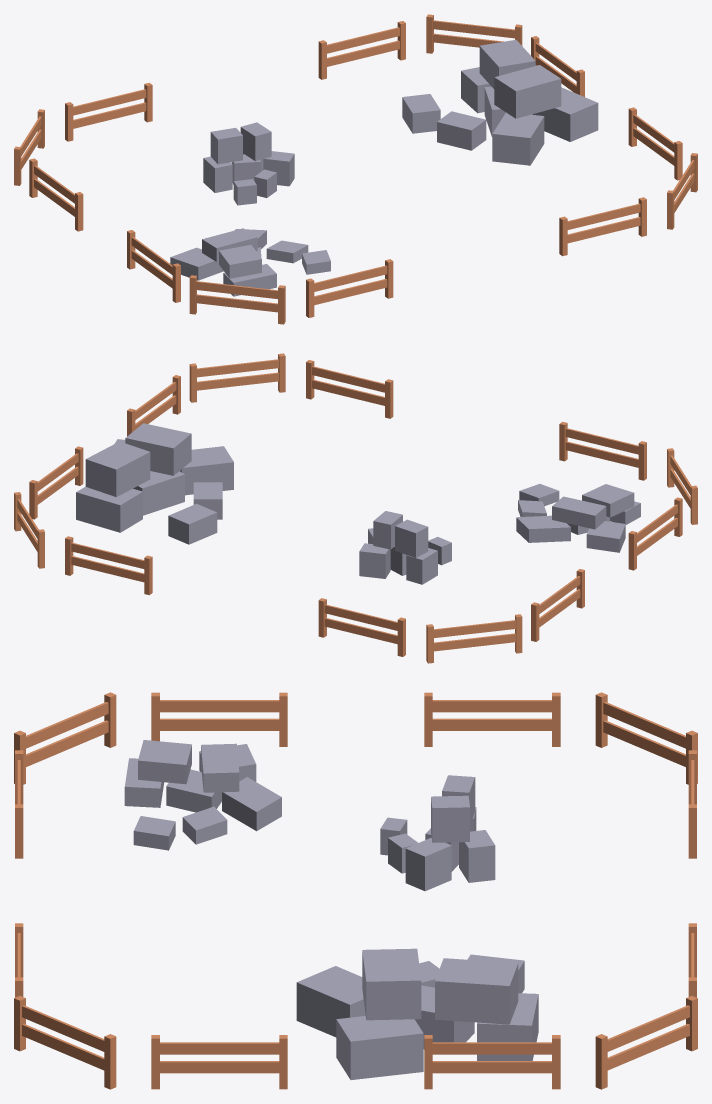
The model's file is Caserne_plan.fbx.
3 renders of one model, top to bottom at view 1: azimuth 30°, elevation 25°; view 2: azimuth 150°, elevation 25°; view 3: azimuth 270°, elevation 25°, orthographic. The views are drawn at different scales.
Visible parts, largest first — view 1: debris_bricks_17, debris_bricks_12, debris_bricks_14, fence_wood_11, fence_wood_2, fence_wood_5, fence_wood_1, fence_wood_6, fence_wood_8, fence_wood_3, fence_wood_4, fence_wood_7 (+3 smaller); view 2: debris_bricks_17, debris_bricks_12, debris_bricks_14, fence_wood_10, fence_wood_9, fence_wood_6, fence_wood_1, fence_wood_5, fence_wood_2, fence_wood_7, fence_wood_0, fence_wood_3 (+3 smaller); view 3: debris_bricks_17, debris_bricks_12, debris_bricks_14, fence_wood_0, fence_wood_3, fence_wood_4, fence_wood_7, fence_wood_8, fence_wood_10, fence_wood_9, fence_wood_11, fence_wood_2 (+3 smaller).
Part boxes in pixels (x1,y1,x2,y2): debris_bricks_17: (402,40,598,165); debris_bricks_12: (170,228,330,296); debris_bricks_14: (203,122,294,205); fence_wood_11: (189,275,285,324); fence_wood_2: (65,82,152,141); fence_wood_5: (559,197,646,256); fence_wood_1: (318,21,405,79); fence_wood_6: (306,259,393,317); fence_wood_8: (426,14,522,53); fence_wood_3: (29,158,83,231); fence_wood_4: (628,107,682,180); fence_wood_7: (127,230,180,302); debris_bricks_17: (76,423,233,544); debris_bricks_12: (516,484,640,552); debris_bricks_14: (359,511,451,584); fence_wood_10: (189,353,285,402); fence_wood_9: (426,614,522,663); fence_wood_6: (559,421,646,480); fence_wood_1: (65,536,152,595); fence_wood_5: (306,360,393,418); fence_wood_2: (318,598,405,656); fence_wood_7: (628,497,682,570); fence_wood_0: (29,446,83,519); fence_wood_3: (531,569,584,641); debris_bricks_17: (296,948,538,1079); debris_bricks_12: (124,740,281,850); debris_bricks_14: (380,775,495,891); fence_wood_0: (424,1035,560,1089); fence_wood_3: (424,692,560,746); fence_wood_4: (151,1035,287,1089); fence_wood_7: (151,692,287,746); fence_wood_8: (595,996,697,1089); fence_wood_10: (14,996,116,1089); fence_wood_9: (595,692,697,784); fence_wood_11: (14,692,116,784); fence_wood_2: (688,750,696,858).
Size of the model in its own units: 60.14 by 6.23 by 50.14.
